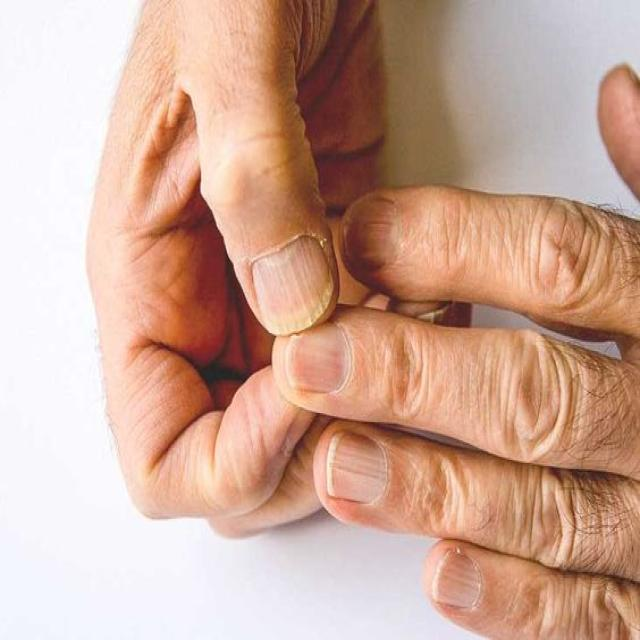Fingernail: (253, 236, 333, 335), (288, 322, 352, 393), (327, 431, 389, 502), (345, 199, 403, 271), (432, 551, 483, 608)
